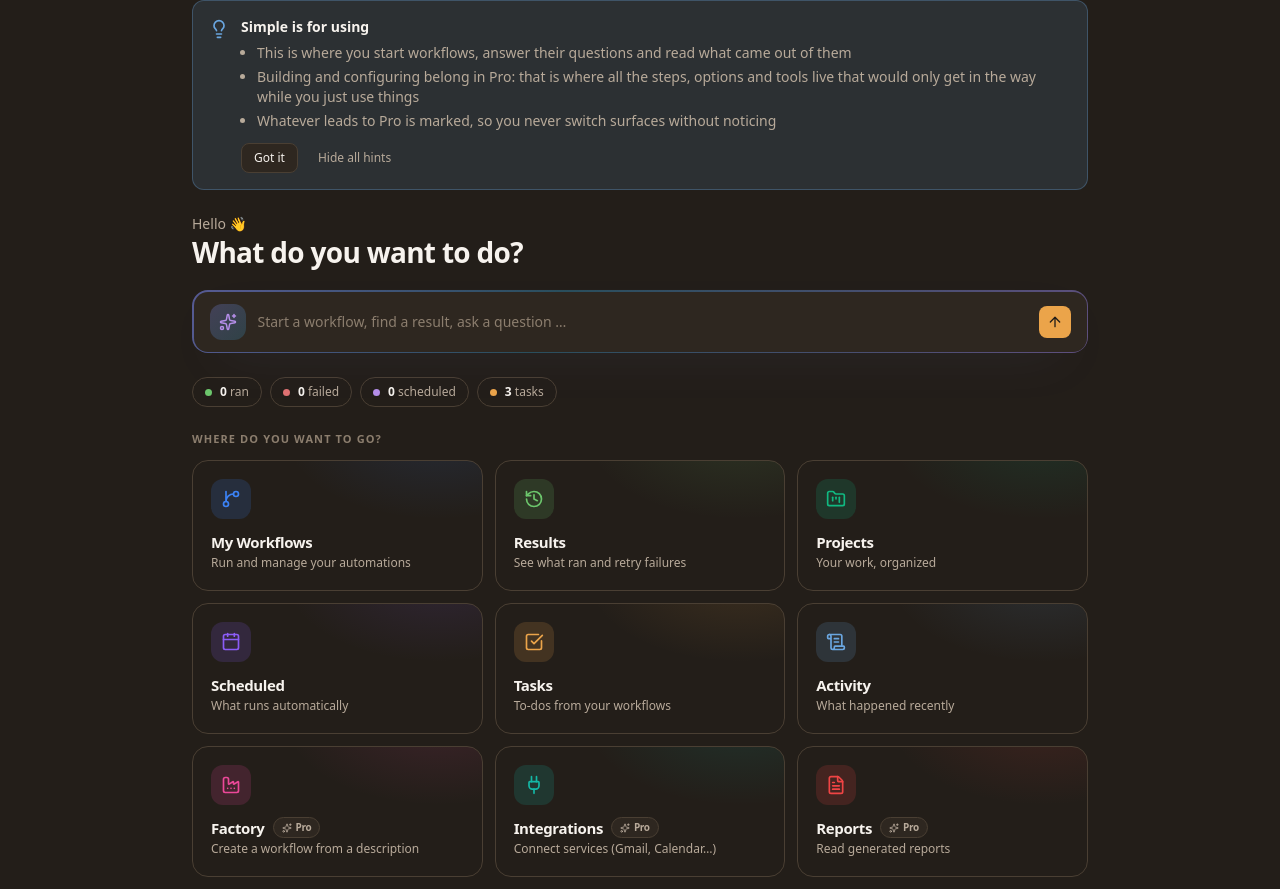
Scenario: SimpleHome — the assistant answers in place › asks for a workflow's inputs before starting it from an action
Expected: the button named "Assistant" is shown, [1038,306,1070,338]
Step 1. Type "research" into the dropdown named "Start, find or ask" → (642, 322), box [258,312,1026,332]
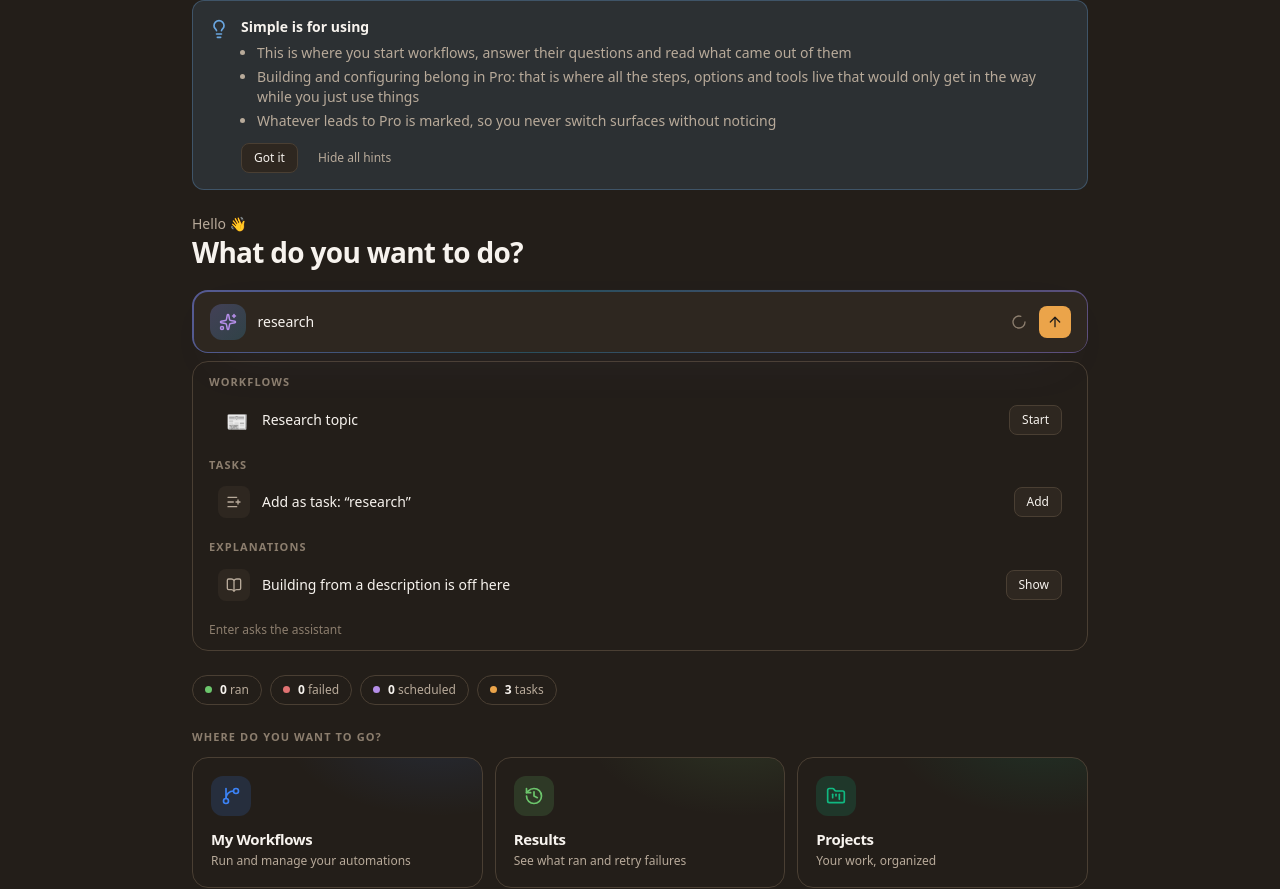
Step 2. Press Enter in the dropdown named "Start, find or ask", box [258,312,998,332]
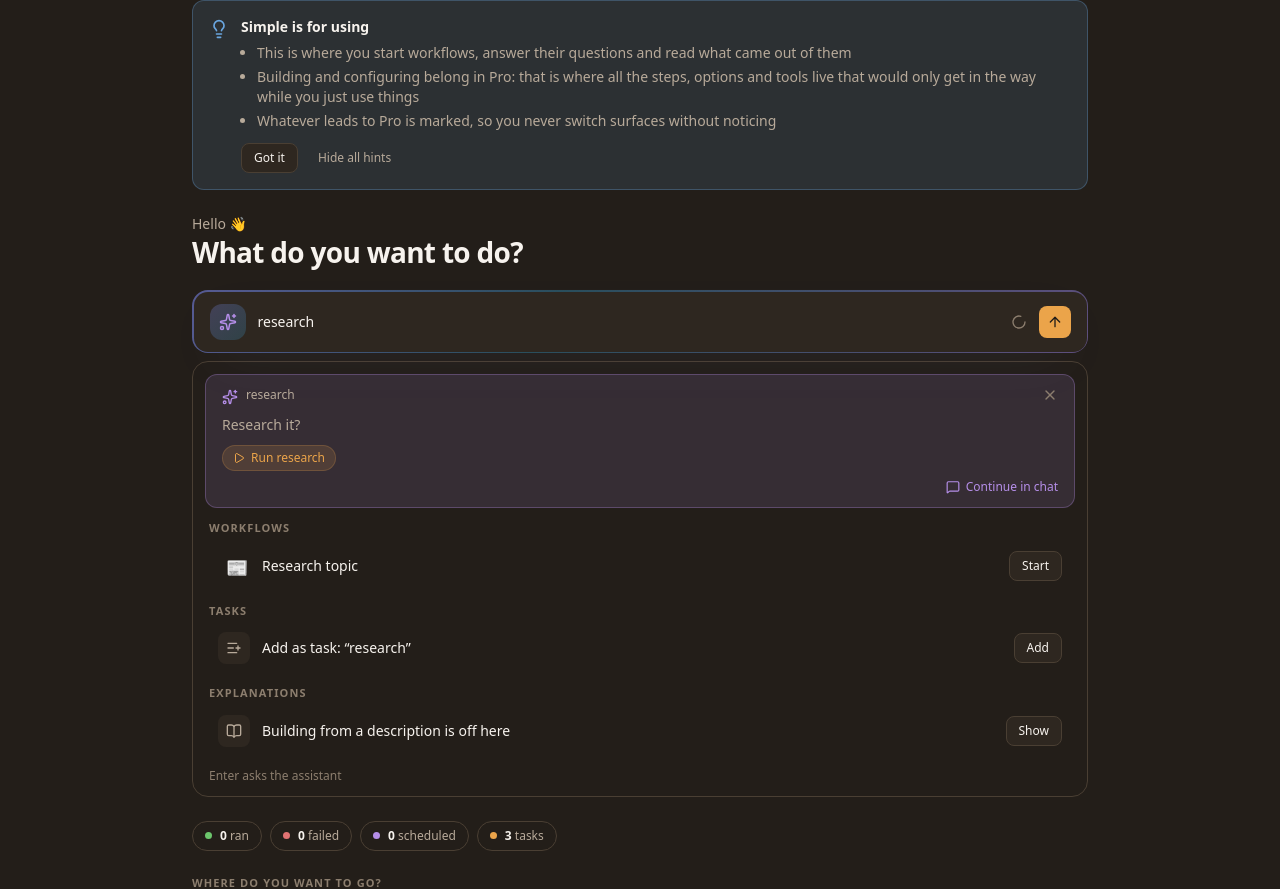
Step 3. Click the button "Run research" → (279, 458), box [222,445,336,471]
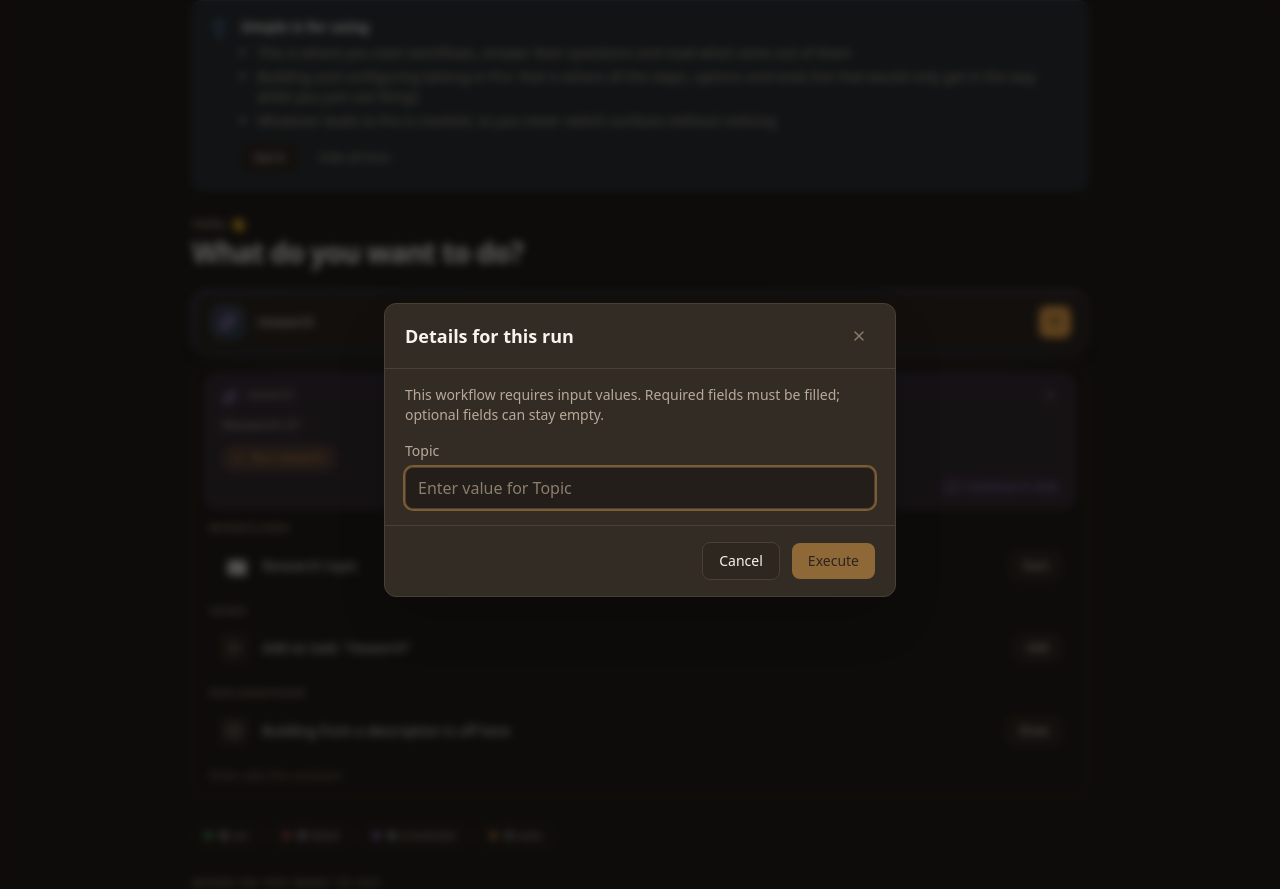
Expected: the heading "Details for this run" is shown, [405,322,574,350]
